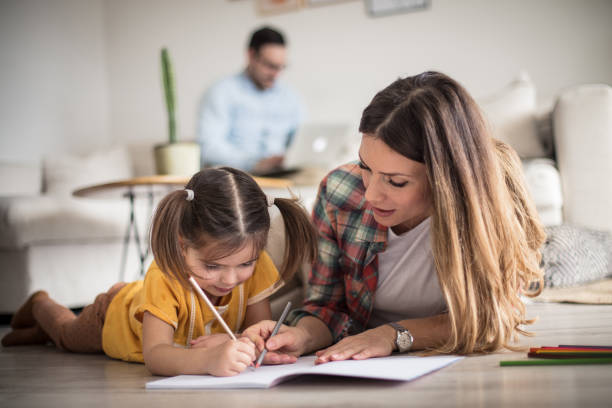without mask: (166, 177, 272, 302), (350, 107, 456, 232), (239, 40, 293, 92)
